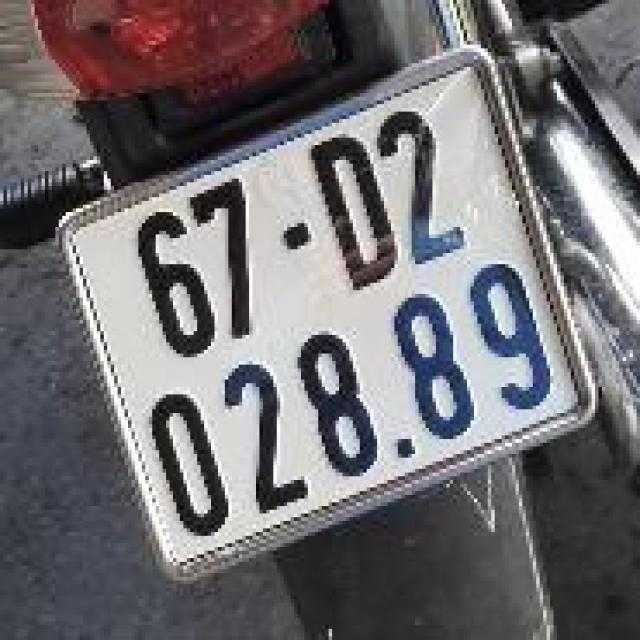0: (135, 381, 246, 553)
2: (362, 89, 477, 276), (211, 350, 322, 524)
6: (122, 197, 230, 371)
7: (184, 170, 294, 345)
8: (378, 281, 488, 454), (287, 315, 392, 488)
9: (457, 247, 565, 423)
D: (298, 116, 416, 304)
